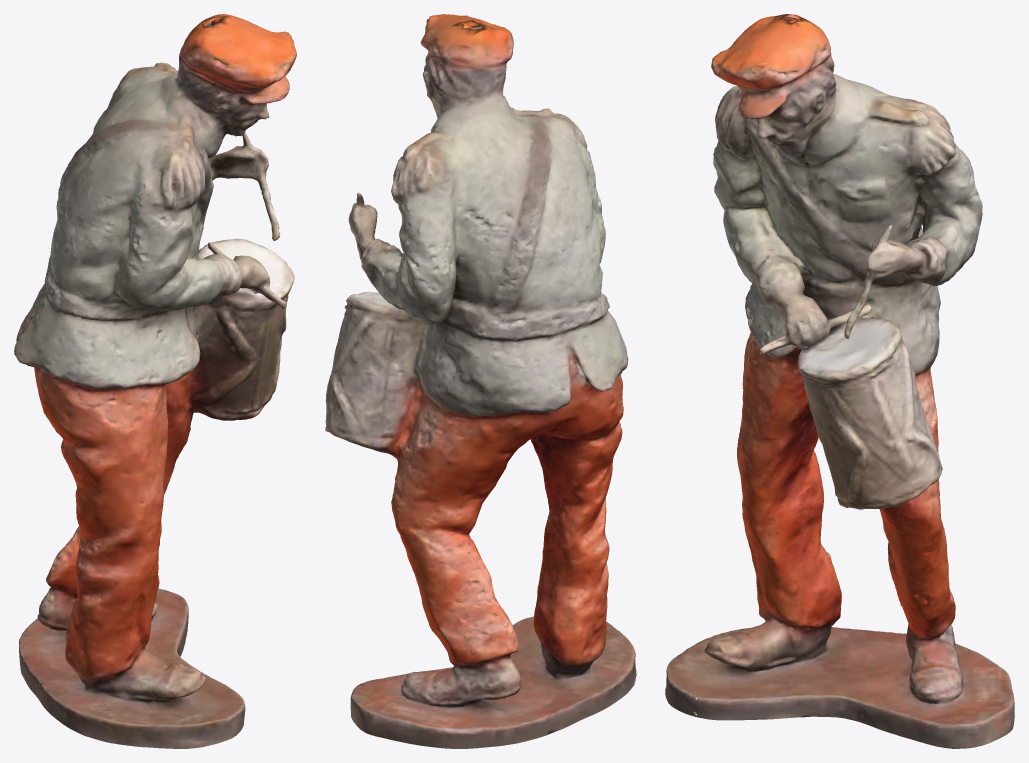
The model's file is khanna-adhikari-dada-drum-walae.glb.
3 renders of one model, left to right at view 1: azimuth 30°, elevation 25°; view 2: azimuth 150°, elevation 25°; view 3: azimuth 270°, elevation 25°, orthographic. The views are drawn at different scales.
Parts seen in each view (by area): view 1: muscianbeatingdrums_001; view 2: muscianbeatingdrums_001; view 3: muscianbeatingdrums_001.
Boxes of the visible parts, left/top/right/bottom form: muscianbeatingdrums_001: left=14, top=14, right=296, bottom=748; muscianbeatingdrums_001: left=325, top=14, right=636, bottom=748; muscianbeatingdrums_001: left=665, top=14, right=1014, bottom=748.
Bounding box in the file's own units: 14.97 × 35.09 × 15.69.
1 material, 1 textured.
